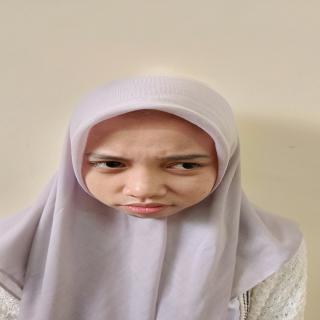Takut: (74, 109, 224, 227)
